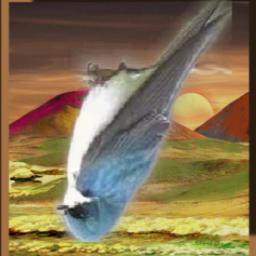Swallow: (54, 0, 233, 242)
